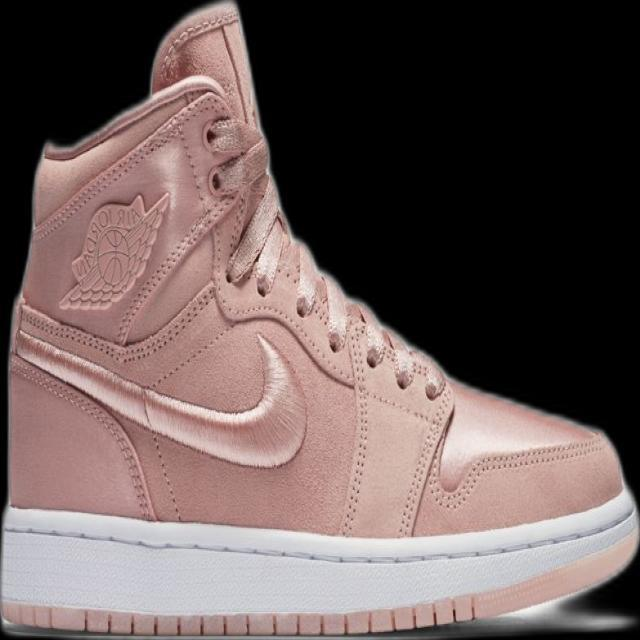J1_InsoleChar: (0, 0, 639, 639)
J1_ShoeLogo: (57, 189, 171, 312)
J1_StitchPattern: (16, 79, 451, 536), (0, 502, 638, 636), (0, 506, 638, 570), (31, 90, 227, 241), (335, 299, 453, 538), (8, 349, 157, 521), (1, 595, 481, 639), (429, 429, 611, 513), (395, 392, 455, 540), (336, 301, 373, 537), (224, 173, 291, 296), (464, 431, 609, 476), (155, 4, 241, 77)
